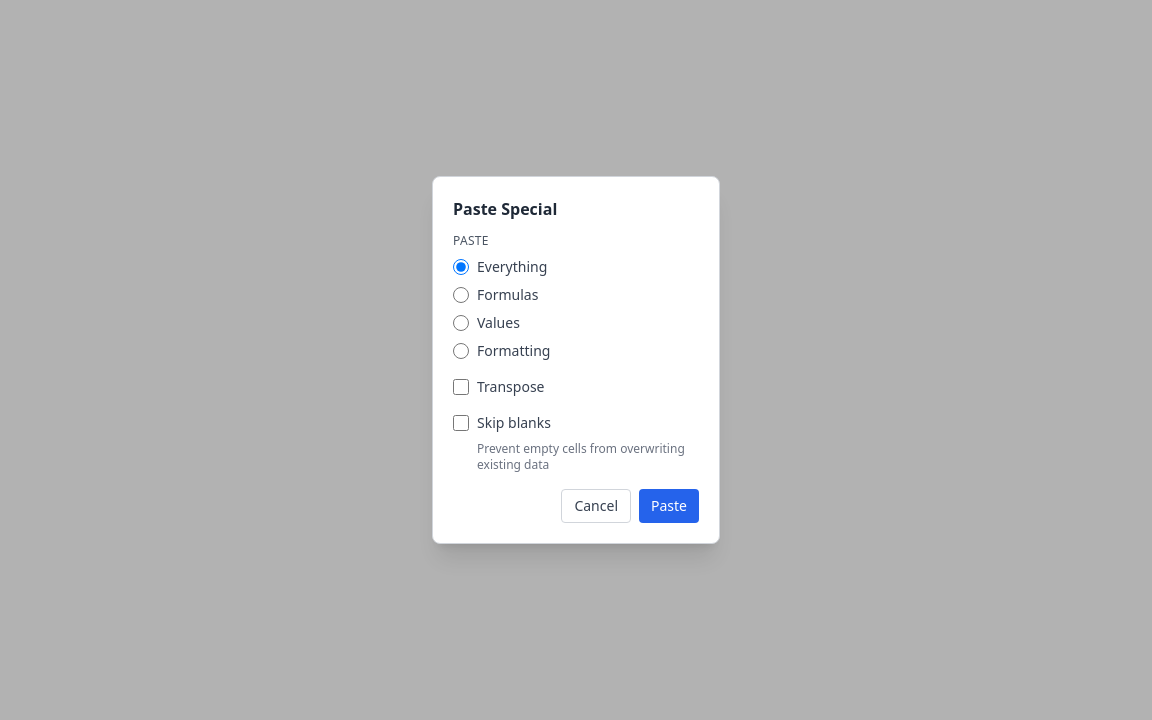
Test: PasteSpecialModal — Extended Options › selects "Values" mode when clicked
Click the radio button labelled "Values".
click(461, 323)  # box [453,315,469,331]
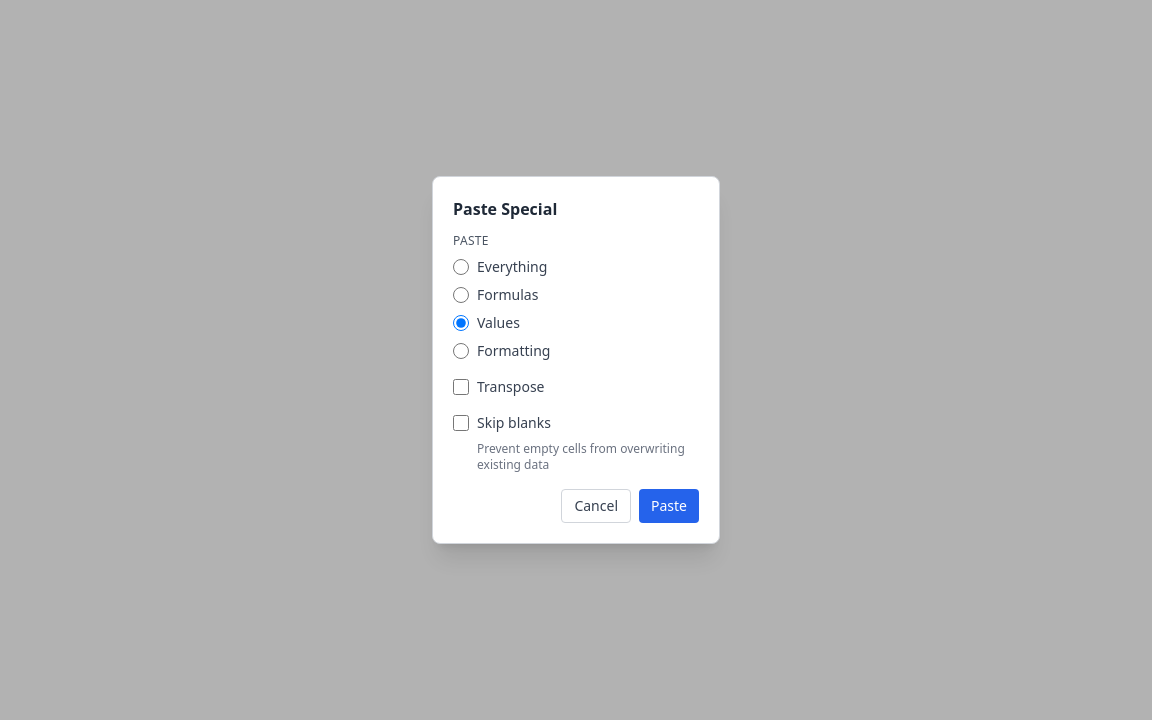
expect the radio button labelled "Values" is checked: met, box [453,315,469,331]
